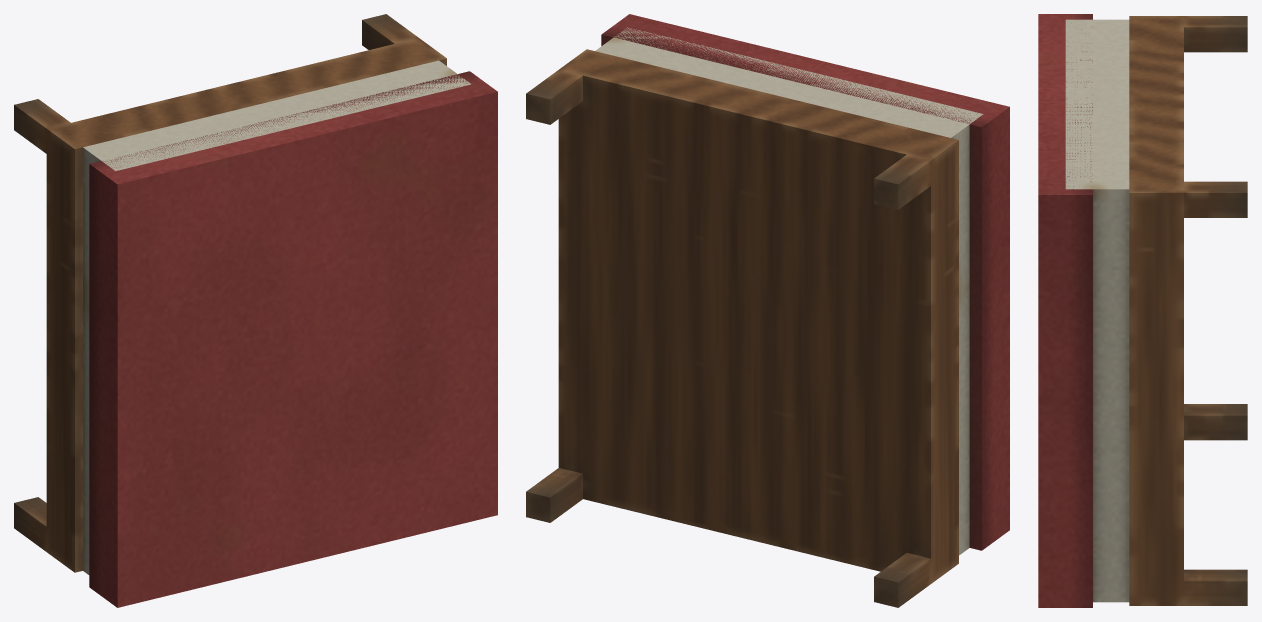
The model's file is bed_red.obj.
The picture shows the model from 3 angles, left to right: view 1: azimuth 30°, elevation 25°; view 2: azimuth 150°, elevation 25°; view 3: azimuth 270°, elevation 25°; orthographic projection. The views are drawn at different scales.
Bounding box in the file's own units: 0.94 × 1 × 0.46.
1 material, 1 textured.
